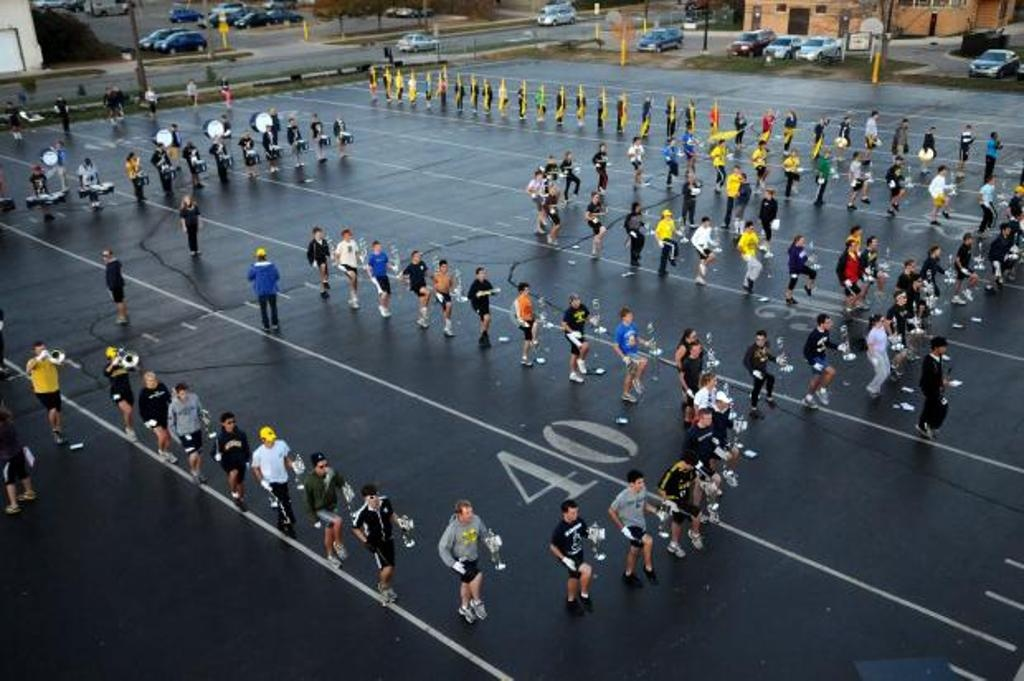human_face: (460, 506, 472, 522), (312, 460, 326, 472), (567, 506, 579, 520), (700, 411, 710, 425), (630, 479, 642, 489), (224, 418, 234, 429), (704, 375, 714, 385), (572, 296, 580, 308), (692, 345, 700, 357), (756, 334, 764, 346), (262, 436, 274, 444), (368, 497, 378, 506), (625, 312, 633, 322), (146, 377, 154, 387), (900, 292, 906, 304), (688, 331, 696, 339), (412, 252, 418, 262), (870, 238, 876, 248), (823, 319, 829, 329), (938, 344, 944, 354), (38, 344, 44, 354), (110, 350, 118, 357), (685, 461, 691, 470), (102, 250, 108, 258), (314, 230, 320, 238), (374, 244, 380, 252), (798, 234, 802, 246), (855, 227, 861, 235), (876, 318, 882, 326), (907, 262, 913, 270), (720, 400, 726, 408), (440, 263, 446, 271), (478, 270, 484, 278), (600, 144, 606, 152), (342, 232, 348, 239), (180, 390, 186, 397), (765, 190, 771, 197), (184, 197, 190, 203), (748, 224, 754, 230), (704, 220, 710, 226), (914, 278, 920, 284), (933, 248, 939, 254), (988, 176, 994, 182), (634, 138, 640, 144), (594, 193, 598, 201), (850, 242, 854, 250), (524, 286, 528, 294), (967, 235, 971, 243), (666, 213, 670, 220), (636, 204, 640, 211), (1004, 227, 1008, 234), (537, 174, 541, 180), (549, 156, 553, 162), (941, 168, 945, 174), (1018, 213, 1022, 219), (1017, 192, 1021, 198), (896, 159, 900, 165), (761, 142, 765, 148), (688, 175, 692, 180), (720, 141, 724, 145), (569, 153, 571, 159), (734, 166, 736, 172), (740, 176, 742, 181), (552, 187, 554, 191)
